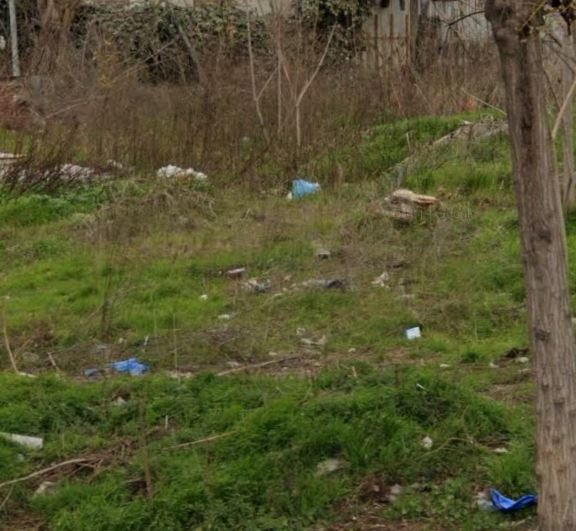trash: (475, 474, 550, 517), (71, 351, 153, 385), (280, 164, 329, 208), (399, 321, 428, 345)
